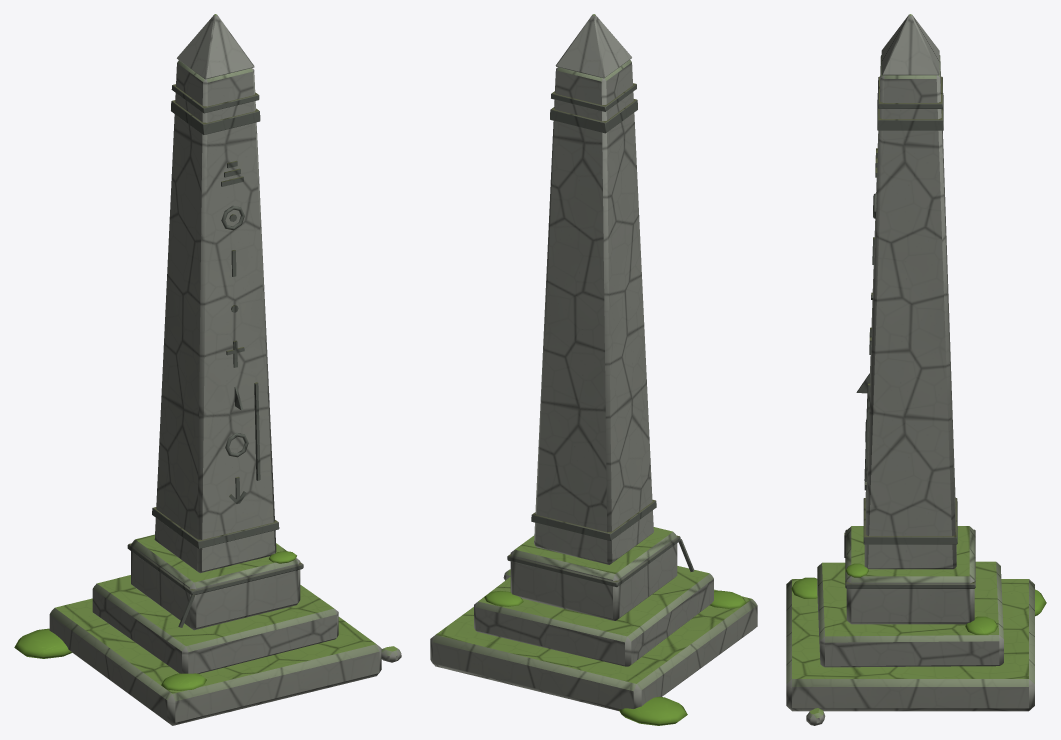
File: stone_obelisk.glb
The picture shows the model from 3 angles, left to right: view 1: azimuth 30°, elevation 25°; view 2: azimuth 150°, elevation 25°; view 3: azimuth 270°, elevation 25°; orthographic projection. The views are drawn at different scales.
Visible parts, largest first — view 1: stone_obelisk; view 2: stone_obelisk; view 3: stone_obelisk.
Part boxes in pixels (x1,y1,x2,y2): stone_obelisk: [14, 14, 401, 725]; stone_obelisk: [430, 14, 757, 725]; stone_obelisk: [786, 14, 1046, 725].
Bounding box in the file's own units: 2.76 × 6.08 × 2.2.
3 materials, 3 textured.
